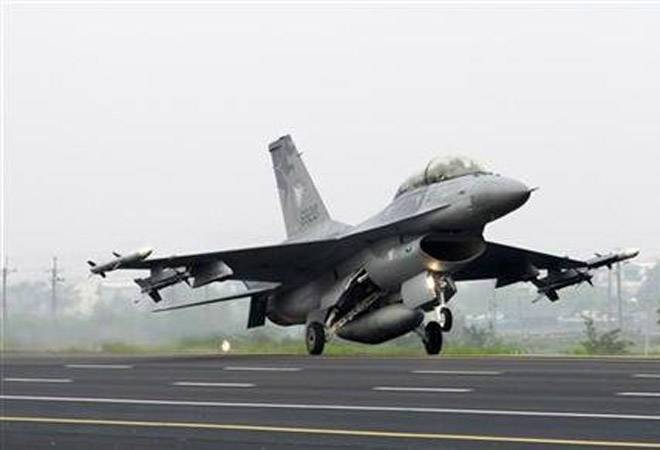aeroplane: (87, 124, 643, 366)
